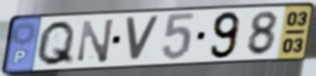5: (160, 11, 197, 64)
8: (246, 10, 280, 57)
9: (207, 10, 244, 60)
N: (76, 17, 117, 65)
Q: (34, 19, 78, 68)
V: (123, 15, 162, 63)
